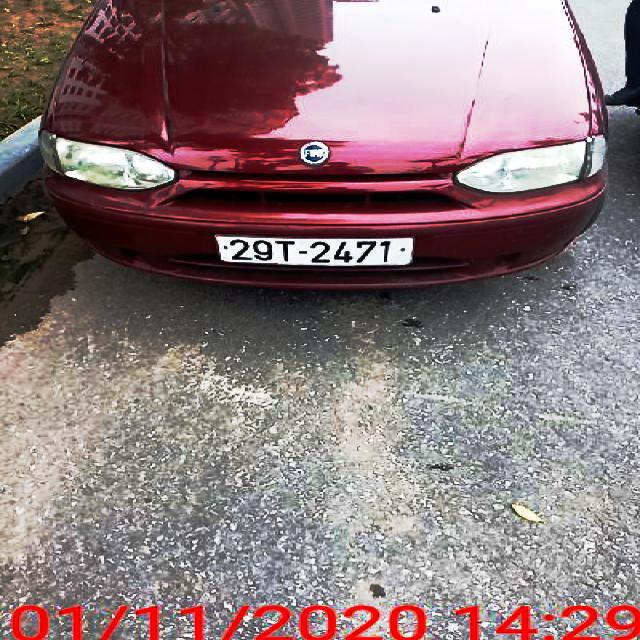license_plate: (215, 237, 413, 268)
